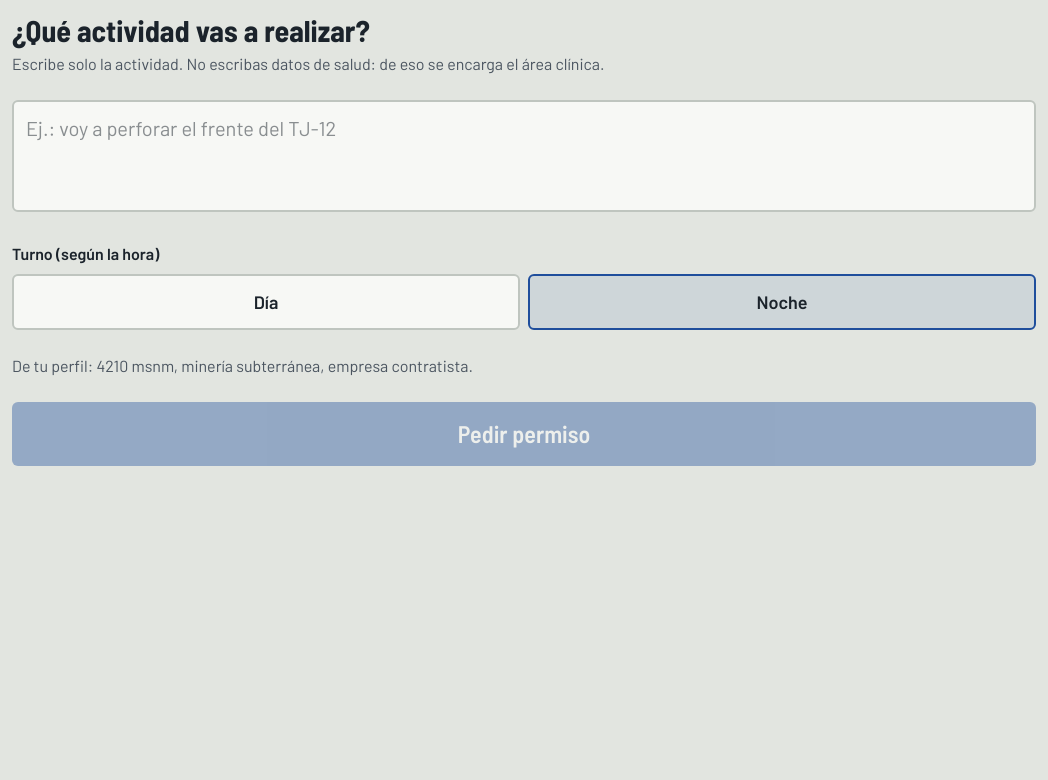
it: pedido de actividad en texto libre › una respuesta vieja que llega tarde no pisa a la nueva
Type "voy a perforar" into the text box labelled "¿Qué actividad vas a realizar?" at (524, 156), box [12,100,1036,212]
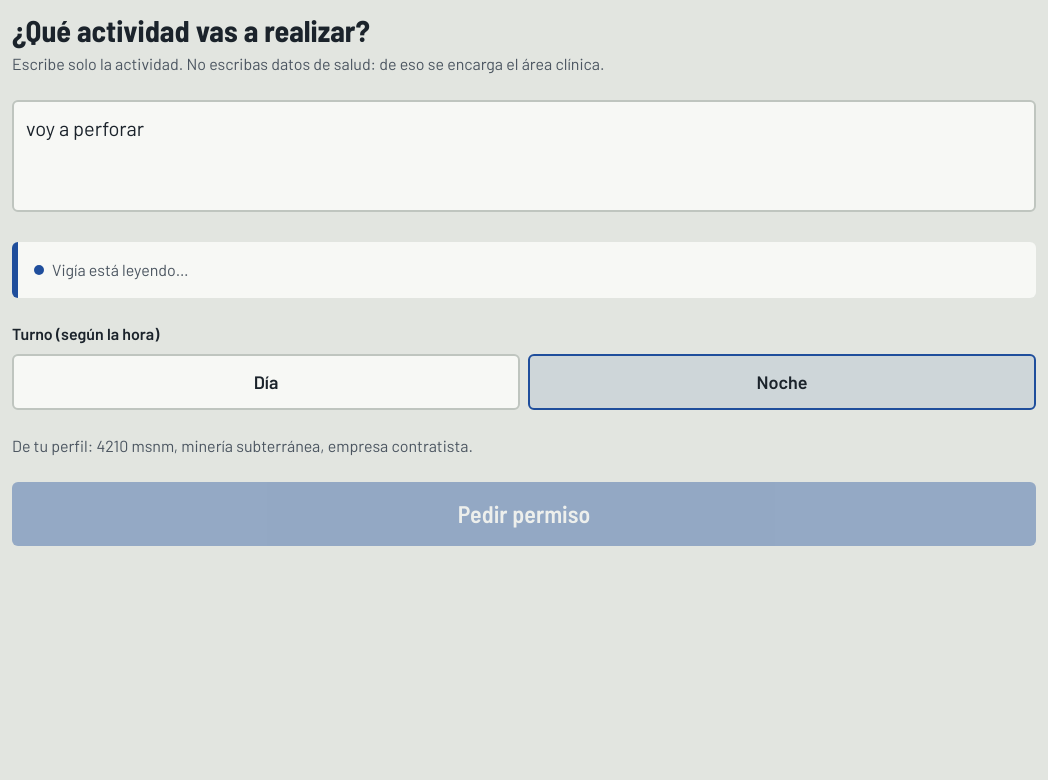
Replace the text in the text box labelled "¿Qué actividad vas a realizar?" with "voy a desatar la corona" at (524, 156), box [12,100,1036,212]
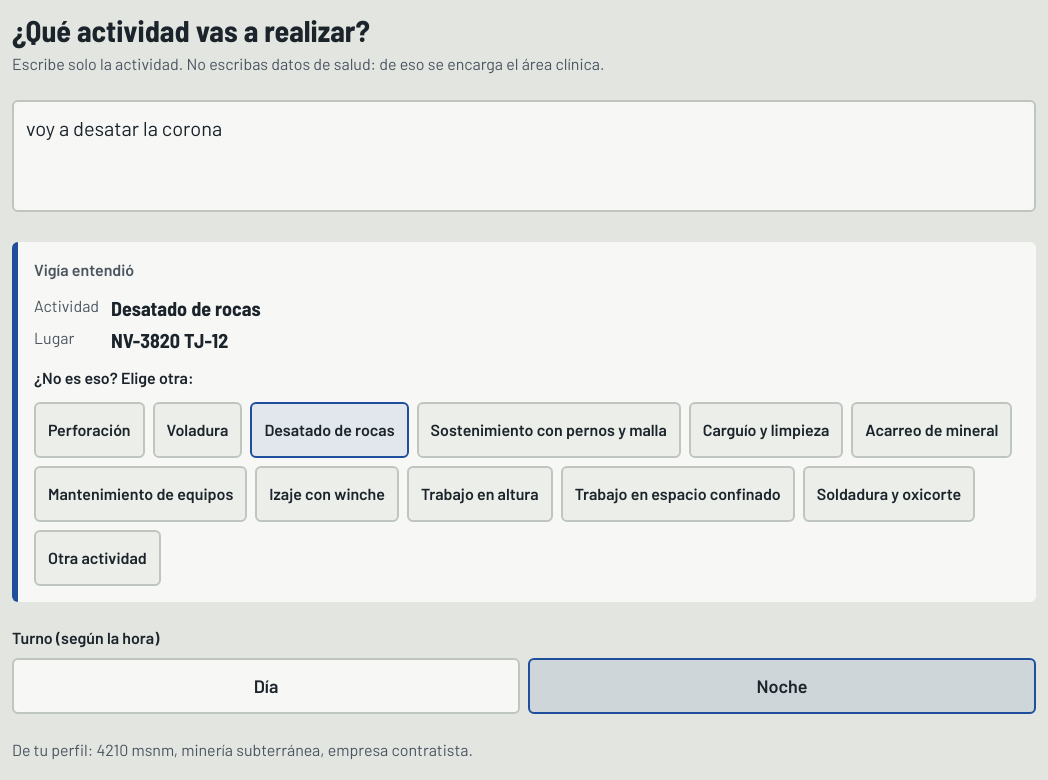
expect the text "Vigía entendió" is shown: met, box [34,260,134,279]
expect the text "Desatado de rocas" is shown: met, box [111,296,261,320]
